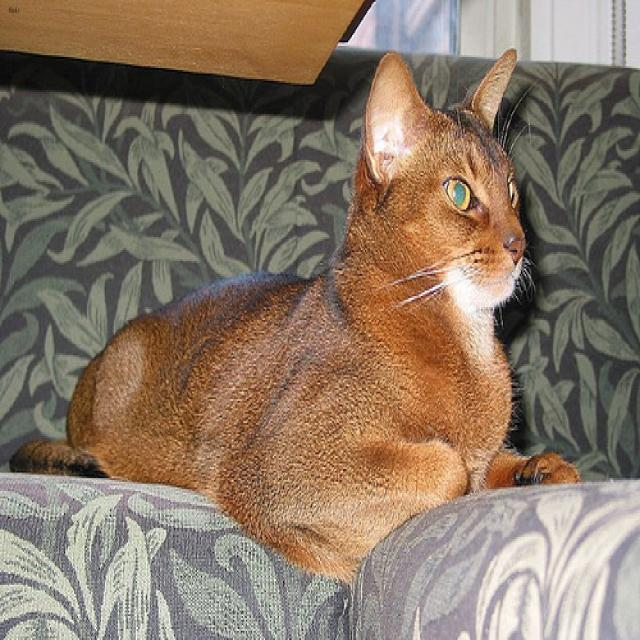cat: (361, 46, 523, 305)
